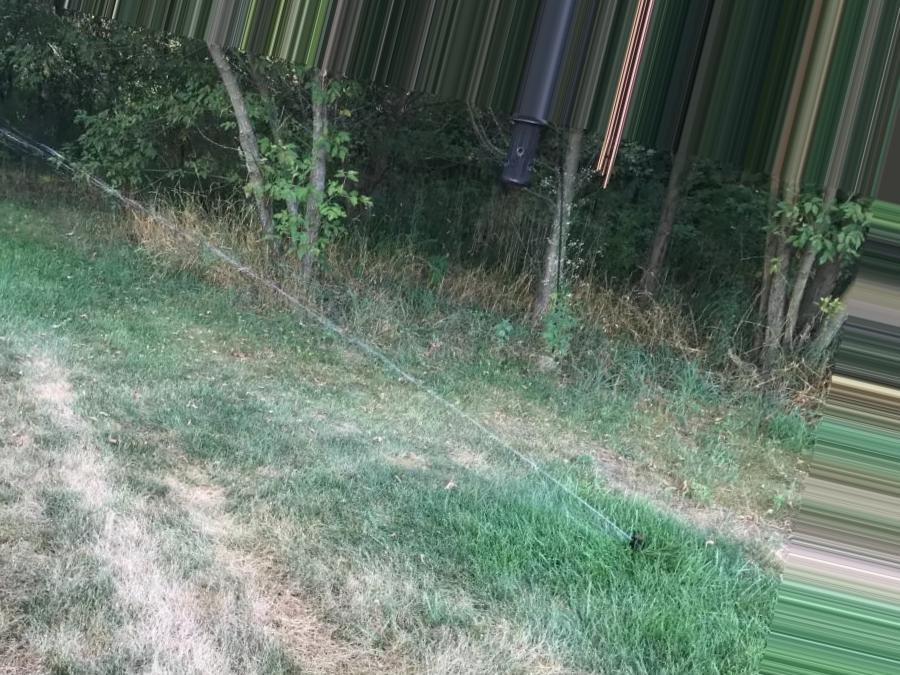patch: (61, 430, 193, 630), (238, 548, 338, 675), (433, 604, 532, 668)
